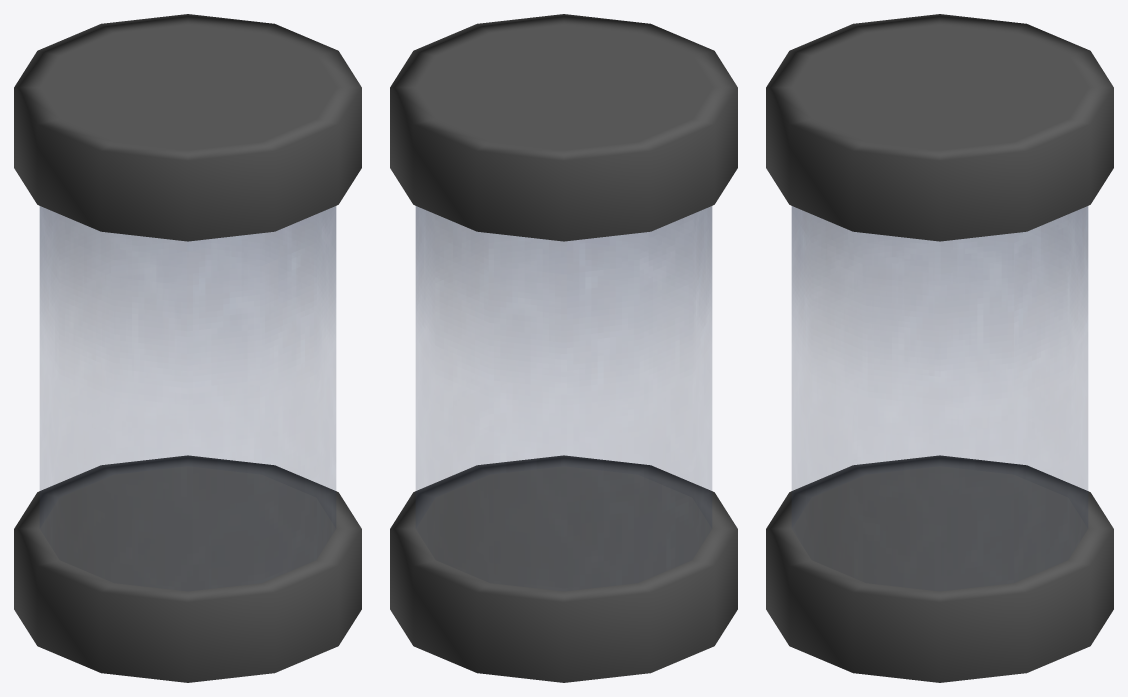
The model's file is FishTank3.fbx.
The picture shows the model from 3 angles, left to right: view 1: azimuth 30°, elevation 25°; view 2: azimuth 150°, elevation 25°; view 3: azimuth 270°, elevation 25°; orthographic projection.
Parts seen in each view (by area): view 1: FishTank3; view 2: FishTank3; view 3: FishTank3.
Boxes of the visible parts, x1,y1,x2,y2 form: FishTank3: (14,14,361,682); FishTank3: (390,14,737,682); FishTank3: (766,14,1113,682).
Size of the model in its own units: 1.21 by 2 by 1.21.
Materials: 2 (1 with a texture image).
